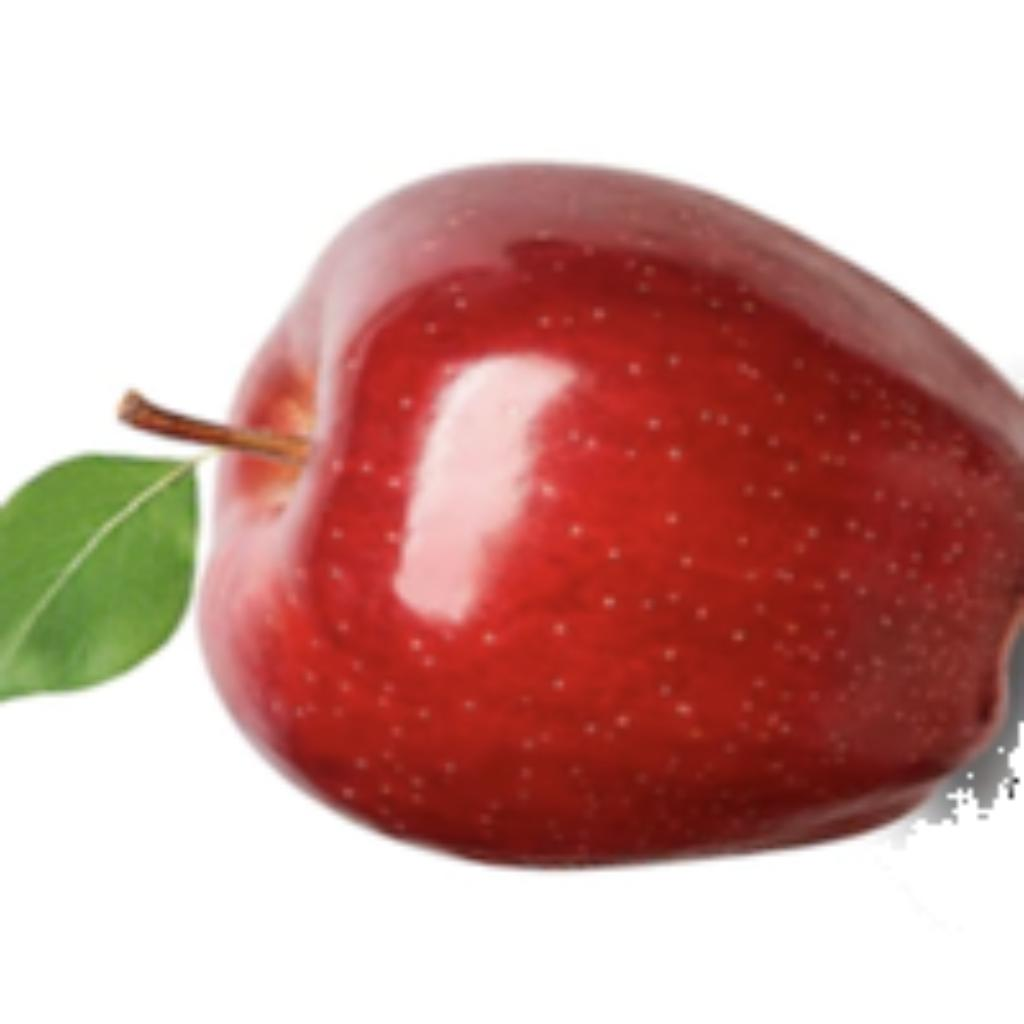apple: (0, 154, 1019, 876)
